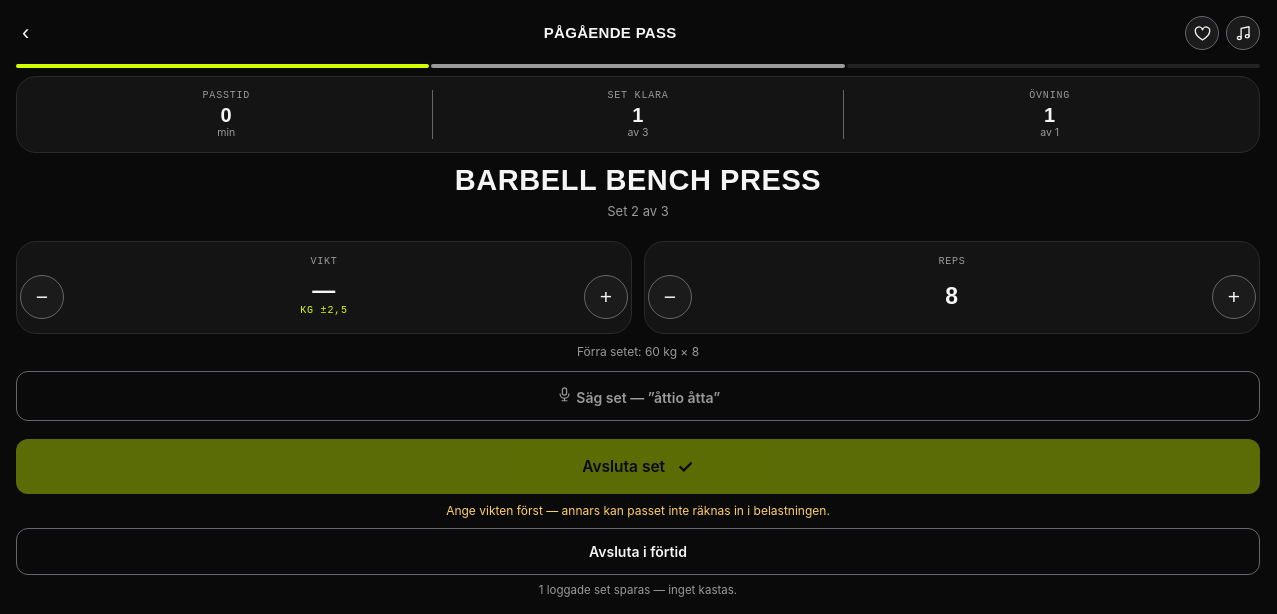
Test: passvyn och bandet › med band: pulsen visas i rubriken och hamnar på passet
This screenshot has width=1277, height=614.
What coordinates should you click on to do the following:
click the button named "Koppla pulsband"
I would click on:
 (1202, 33)
Its box is [1185,16,1219,50].
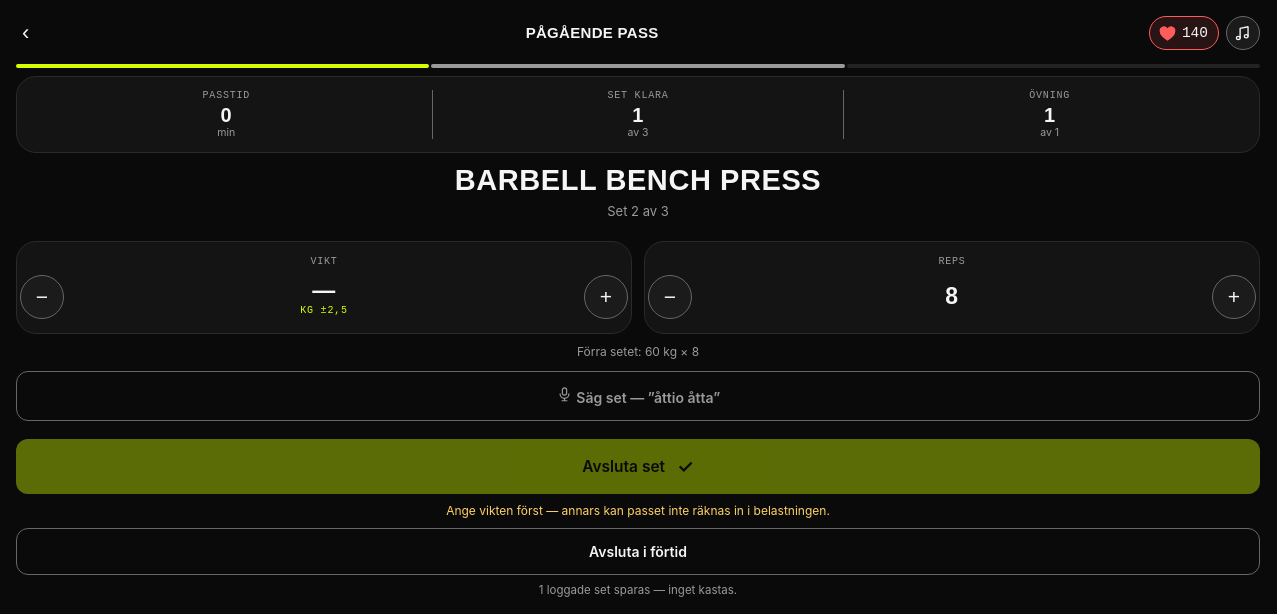
Result: the button "140" is shown at [1149,16,1219,50]
